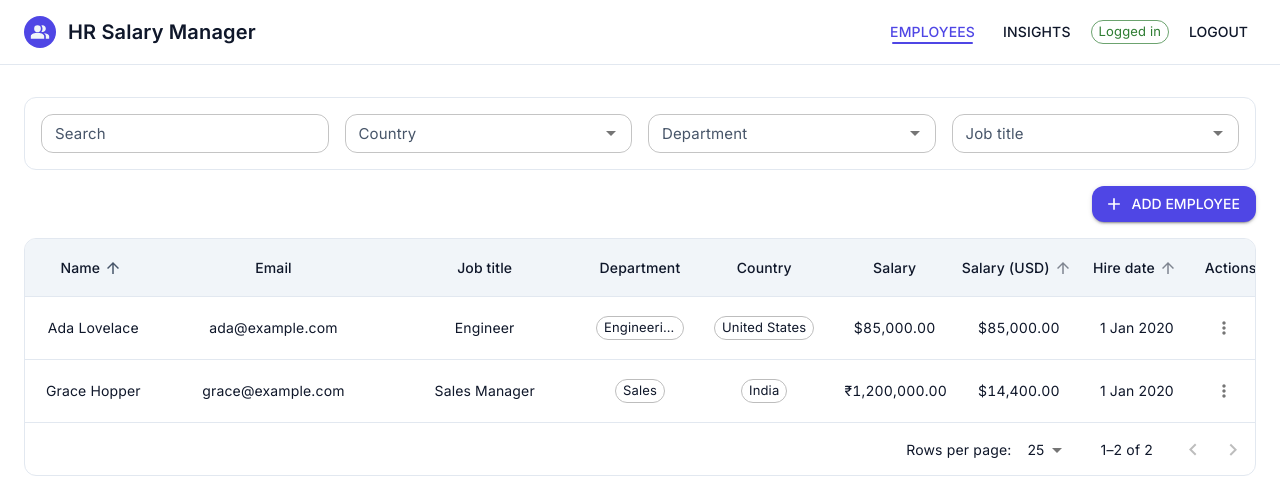
Test: App auth-aware AppBar › shows a Logout button and a "Logged in" indicator when logged in, and clicking Logout logs out
The width and height of the screenshot is (1280, 493).
Expected: the field labelled "Search" is shown, x1=41 y1=114 x2=328 y2=153
Expected: the text "Logged in" is shown, x1=1099 y1=23 x2=1161 y2=39
Click the button "Logout". click: (1218, 32)
box: x1=1181 y1=14 x2=1256 y2=50
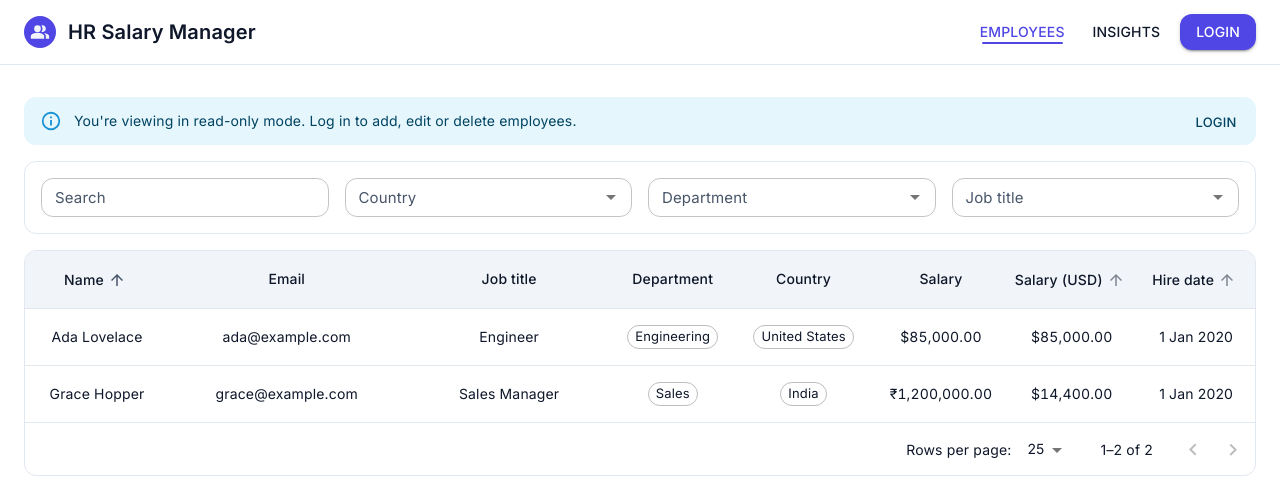
Expected: the link "Login" next to "Insights" is shown, x1=1180 y1=14 x2=1256 y2=50
Expected: the text "Logged in" is gone
